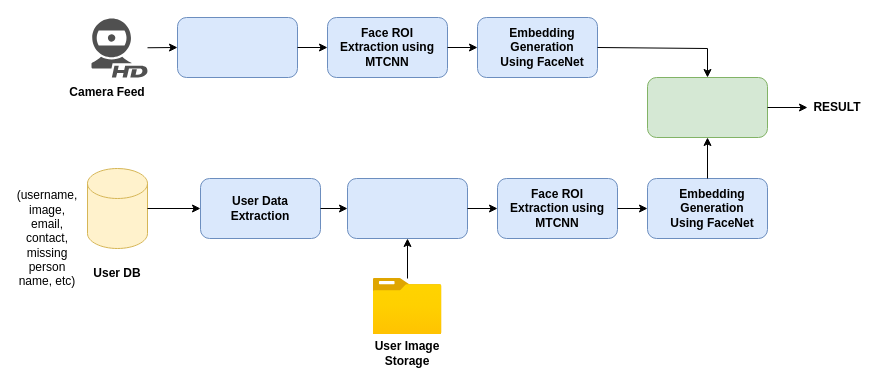
The diagram is 885 pixels wide and 386 high, and some of its shapes have lost their labels. The centre of each missing label's shape, as x and y in pixels:
Frame Extraction: (237,47)
Load Images: (407,208)
Matching: (707,107)
